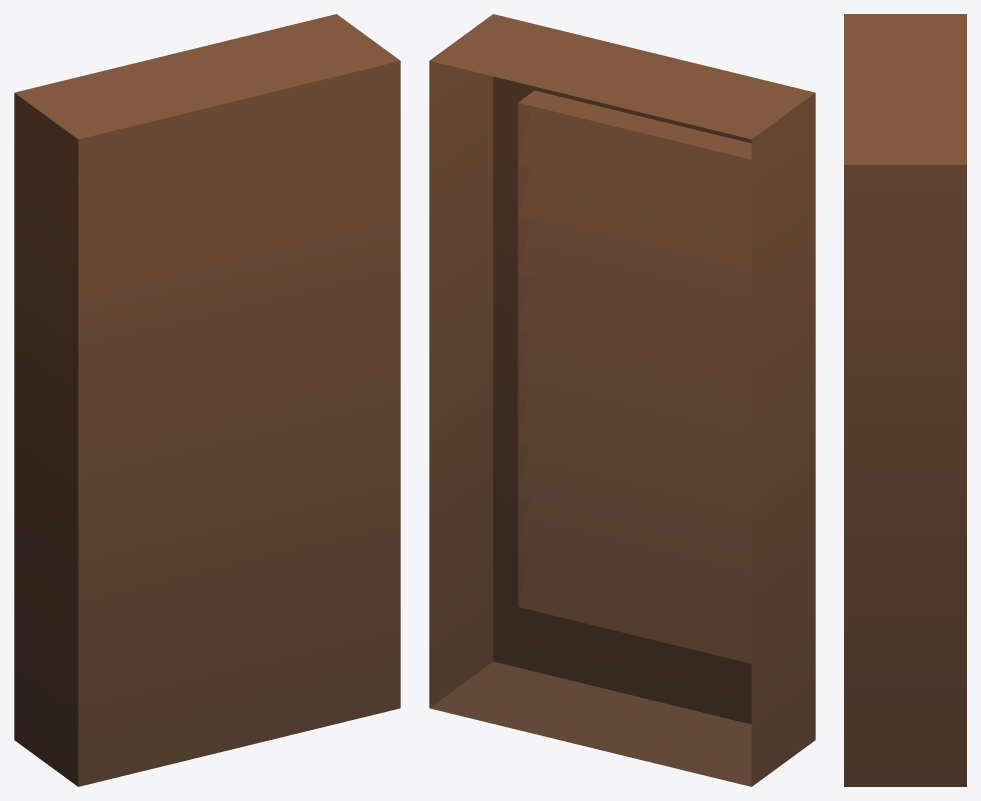
File: Window 00.fbx
3 renders of one model, left to right at view 1: azimuth 30°, elevation 25°; view 2: azimuth 150°, elevation 25°; view 3: azimuth 270°, elevation 25°, orthographic. The views are drawn at different scales.
Parts seen in each view (by area): view 1: Window 00, Window 00 high; view 2: Window 00 high, Window 00; view 3: Window 00 high.
Boxes of the visible parts, x1,y1,x2,y2 form: Window 00: (78,61,400,786); Window 00 high: (14,14,400,786); Window 00 high: (429,14,815,786); Window 00: (493,77,751,723); Window 00 high: (844,14,966,786).
Bounding box in the file's own units: 0.5833 × 1.12 × 0.2005.
1 material, 1 textured.
